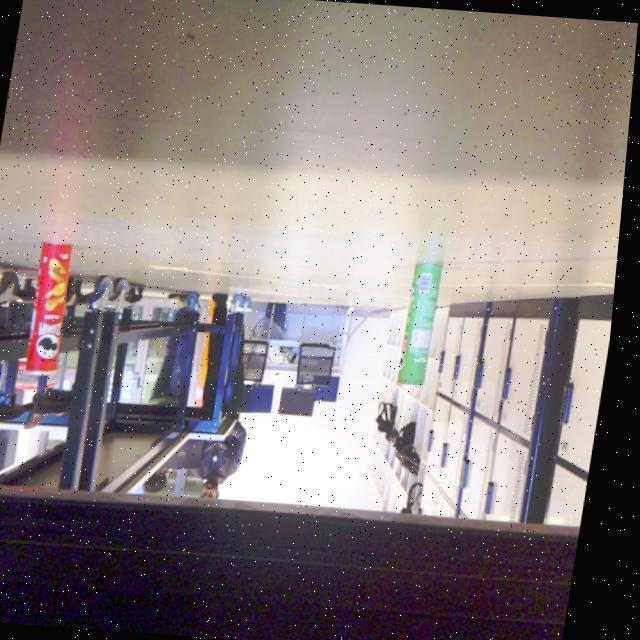greenpringles: (387, 251, 460, 390)
redpringles: (15, 230, 93, 390)
